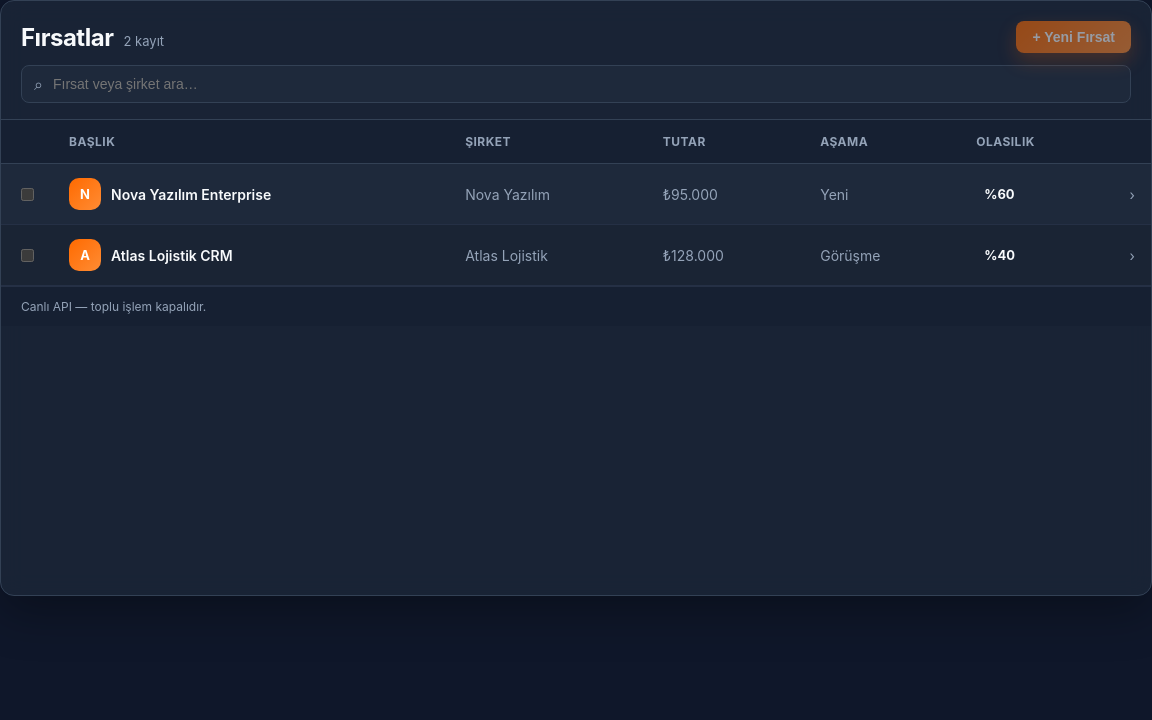
Test: OpportunityListView › filters opportunities by search query
Expected: the text "Nova Yazılım Enterprise" is shown, [111,186,271,202]
Type "Atlas" into the search field named "Fırsat ara" at (584, 84), box [51,75,1118,93]
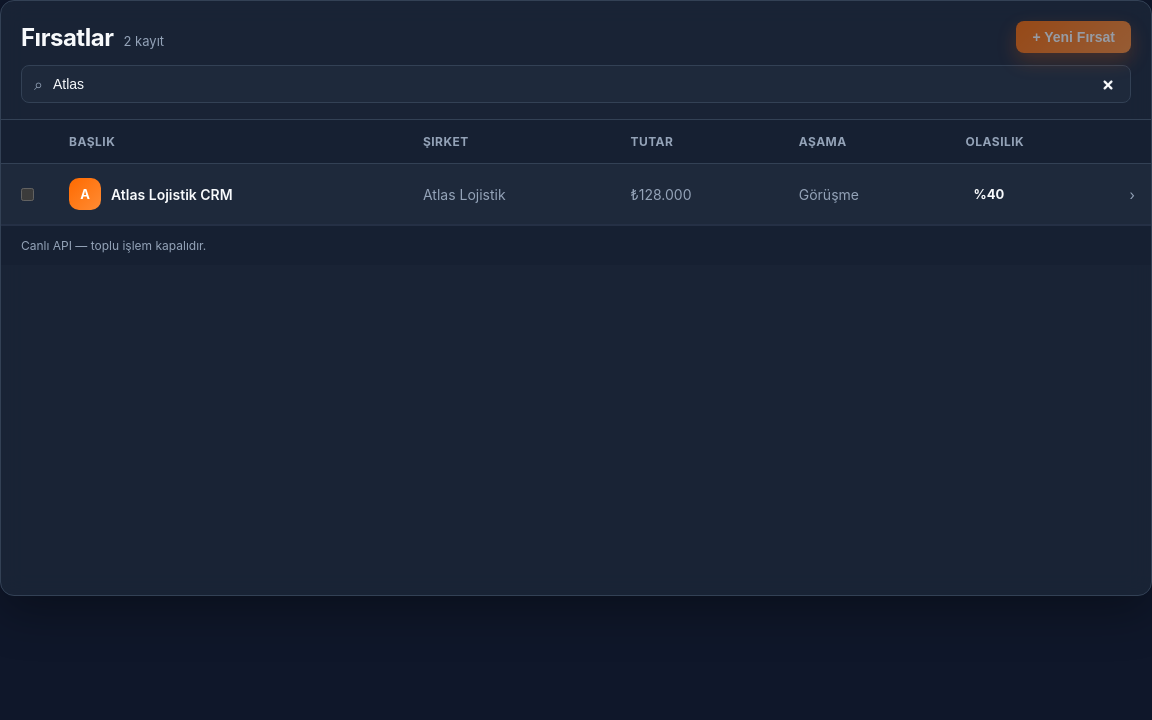
Expected: the text "Atlas Lojistik CRM" is shown, [111,186,233,202]
Now the text "Nova Yazılım Enterprise" is gone
